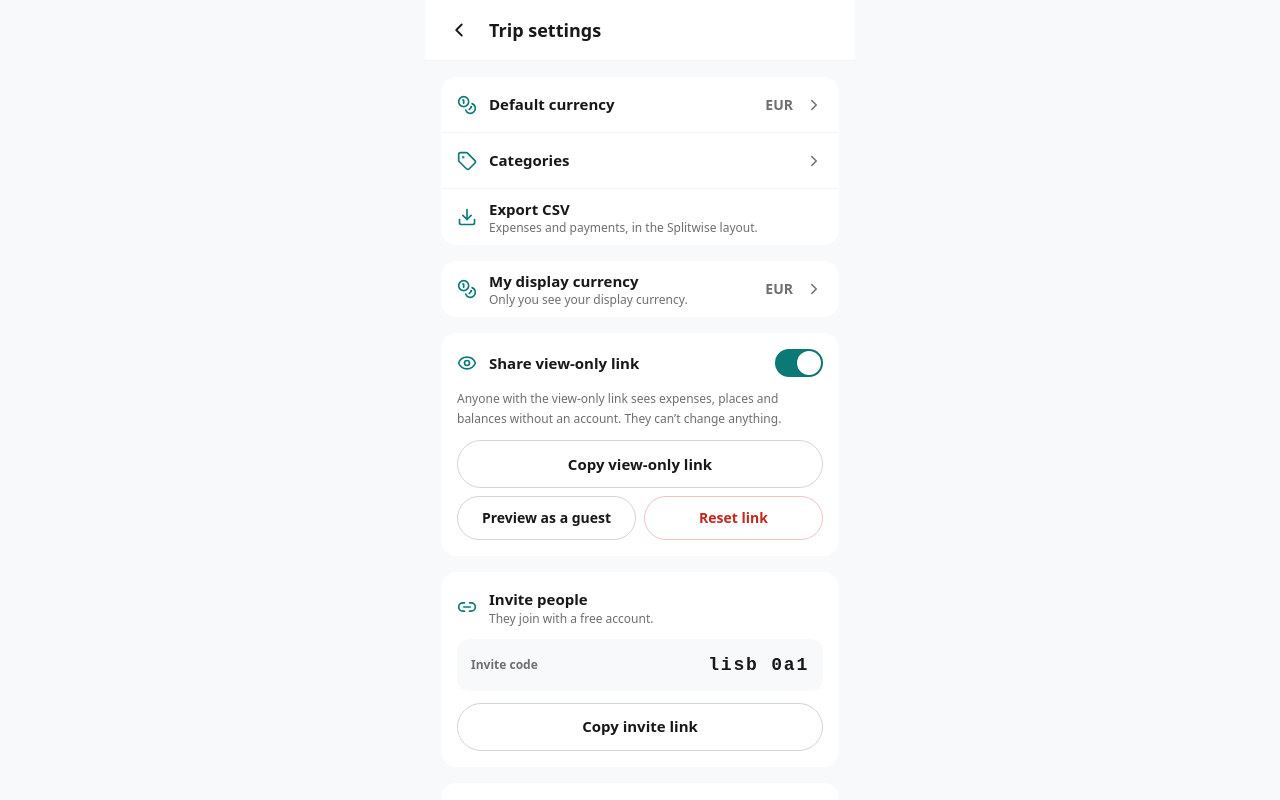
it: categories page › lists visible categories with counts and reaches the page from trip settings
This screenshot has width=1280, height=800.
Click the button "Categories" at point(529, 160), box [441,133,839,189]
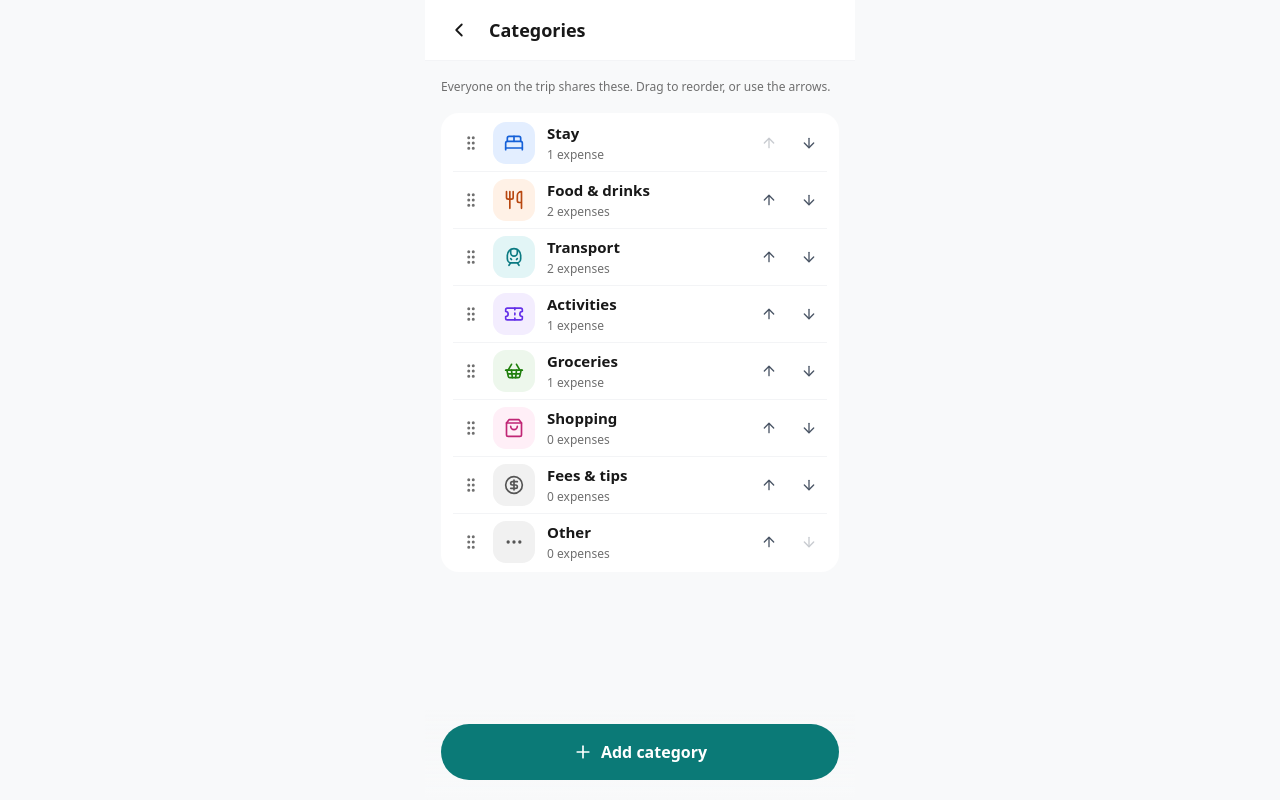
Expected: the list named "Categories" is shown, [441,112,839,572]
Expected: the text "2 expenses" is shown 2 times, [547,203,610,220]; [547,260,610,277]
